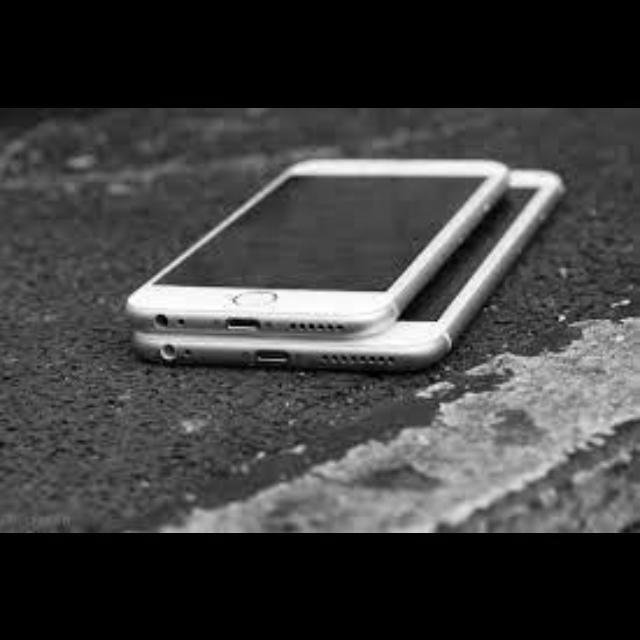fake: (147, 102, 570, 418)
